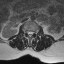CCS_normal: (29, 29, 31, 39)
LFS_normal: (33, 28, 35, 35)
LLS_normal: (31, 28, 33, 36)
RFS_normal: (25, 27, 27, 35)
RLS_normal: (27, 28, 29, 37)
